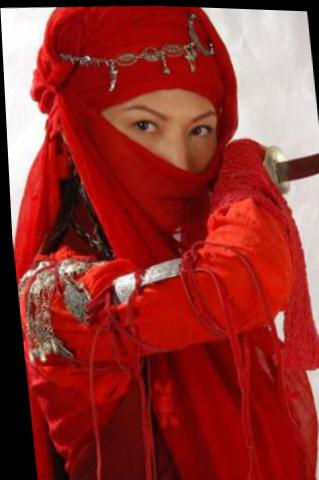WRONG: (110, 92, 229, 238)
